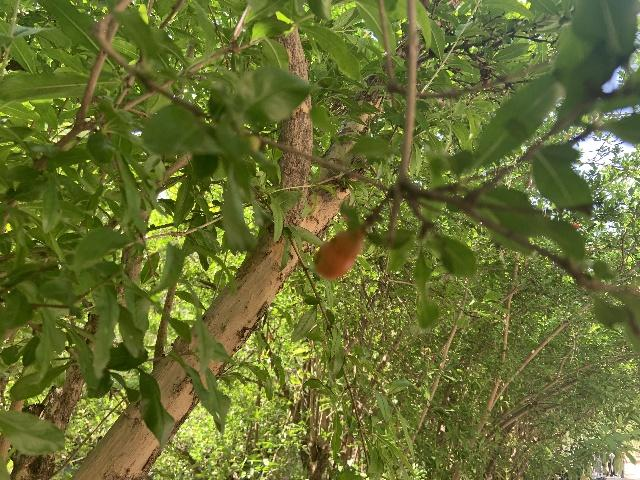bud: (314, 227, 365, 279)
flower: (572, 222, 579, 227)
